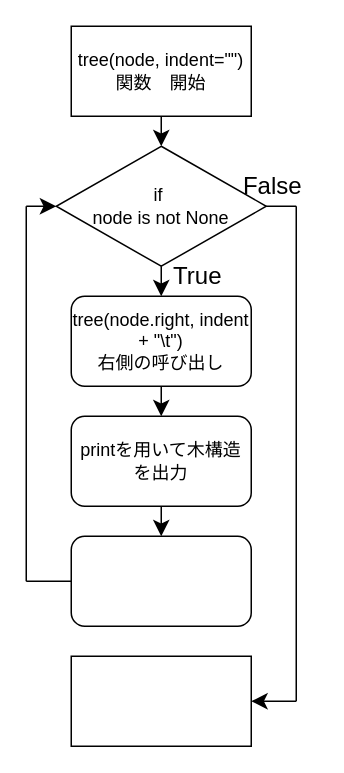
The diagram is 344 pixels wide and 773 high, and some of its shapes have lost their labels. Here are the shapes that lost their labels. From the top down, the centre of each, then its label:
pixel 160 580: tree(node.left, indent + "\t") 左側の呼び出し
pixel 160 700: 終了
